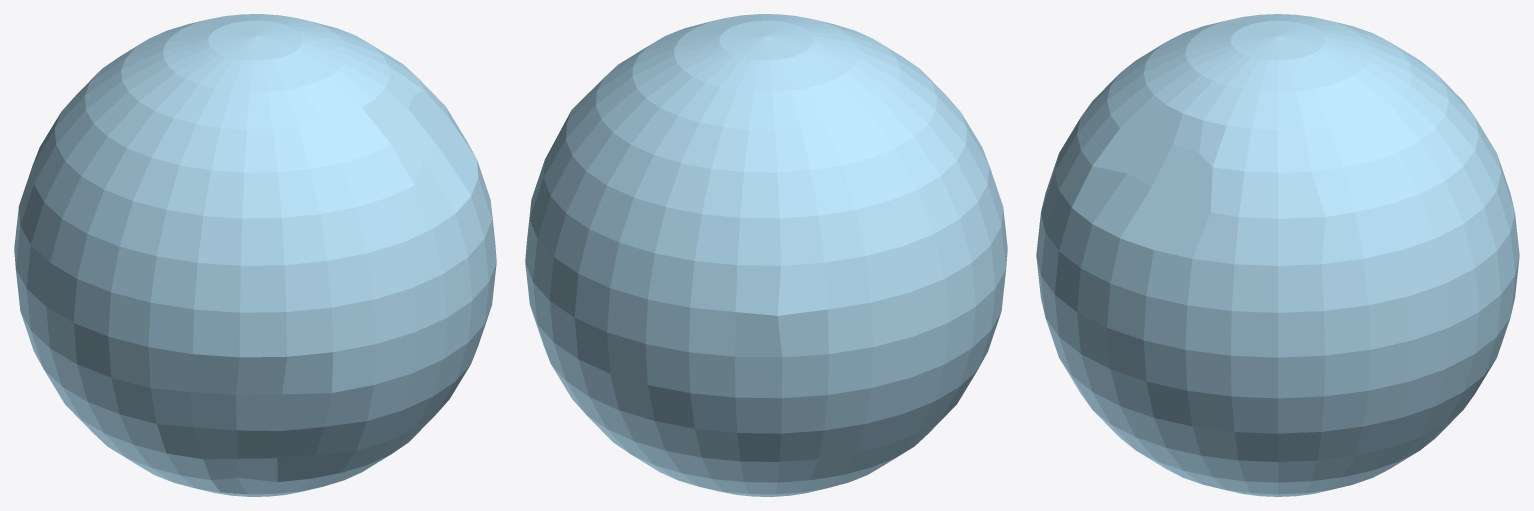
File: MUNDO_AGUA.fbx
The picture shows the model from 3 angles, left to right: view 1: azimuth 30°, elevation 25°; view 2: azimuth 150°, elevation 25°; view 3: azimuth 270°, elevation 25°; orthographic projection.
Parts seen in each view (by area): view 1: MUNDO; view 2: MUNDO; view 3: MUNDO.
Part boxes in pixels (x1,y1,x2,y2): MUNDO: [14, 14, 496, 496]; MUNDO: [525, 14, 1007, 496]; MUNDO: [1036, 14, 1519, 496].
Size of the model in its own units: 30296 by 30296 by 30296.
